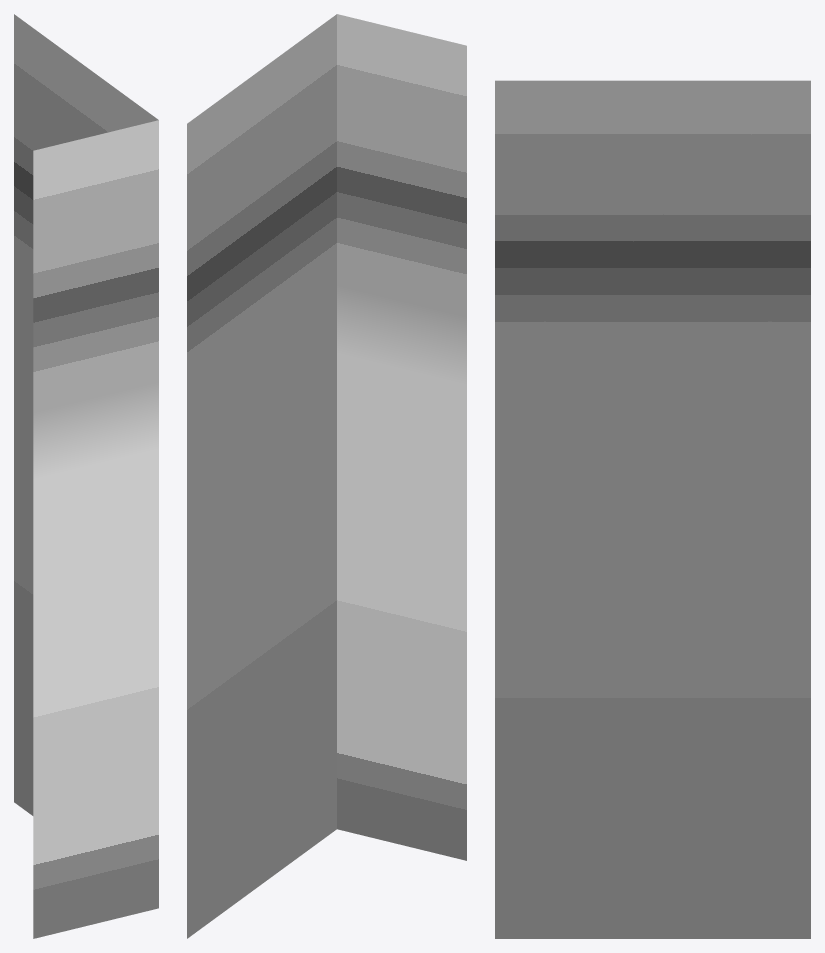
3 views of the same model, side by side, from view 1: azimuth 30°, elevation 25°; view 2: azimuth 150°, elevation 25°; view 3: azimuth 270°, elevation 25° (orthographic). The views are drawn at different scales.
Bounding box in the file's own units: 0.5 × 3 × 1.
2 materials, 2 textured.
